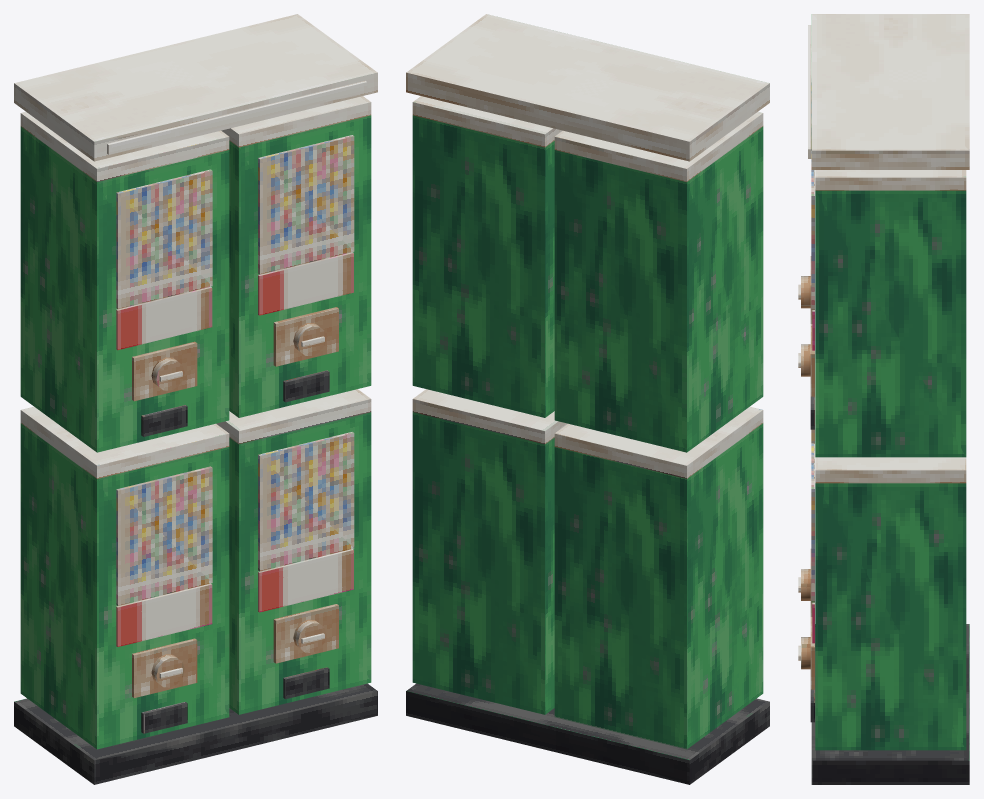
Rendered from route_green.glb.
The picture shows the model from 3 angles, left to right: view 1: azimuth 30°, elevation 25°; view 2: azimuth 150°, elevation 25°; view 3: azimuth 270°, elevation 25°; orthographic projection.
Parts seen in each view (by area): view 1: mesh; view 2: mesh; view 3: mesh.
Part boxes in pixels (left/top/right/bottom): mesh: left=14, top=14, right=377, bottom=784; mesh: left=406, top=14, right=769, bottom=784; mesh: left=798, top=14, right=969, bottom=784.
Size of the model in its own units: 0.8999 by 1.95 by 0.478.
1 material, 1 textured.
